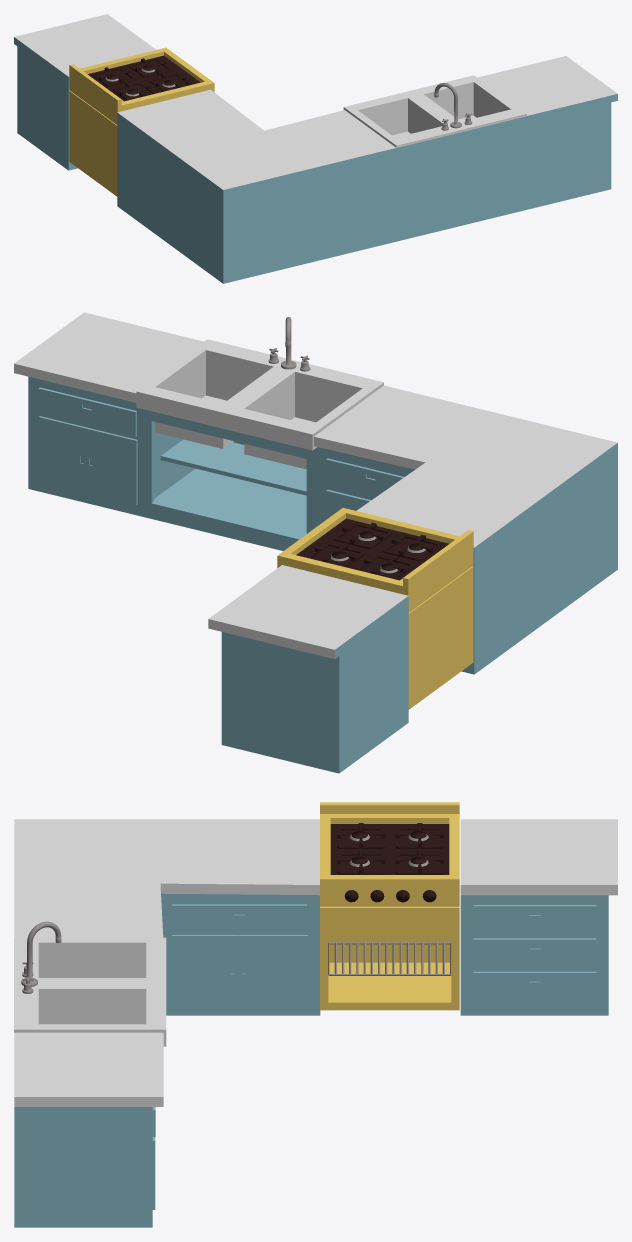
File: Encimera.fbx
The picture shows the model from 3 angles, top to bottom: view 1: azimuth 30°, elevation 25°; view 2: azimuth 150°, elevation 25°; view 3: azimuth 270°, elevation 25°; orthographic projection. The views are drawn at different scales.
Visible parts, largest first — view 1: Cube.032; view 2: Cube.032; view 3: Cube.032, Grifo.
Boxes of the visible parts, x1,y1,x2,y2 form: Cube.032: [14, 14, 617, 283]; Cube.032: [14, 312, 617, 773]; Cube.032: [14, 802, 617, 1227]; Grifo: [21, 921, 61, 986].
Size of the model in its own units: 57.12 by 18.83 by 52.5.
